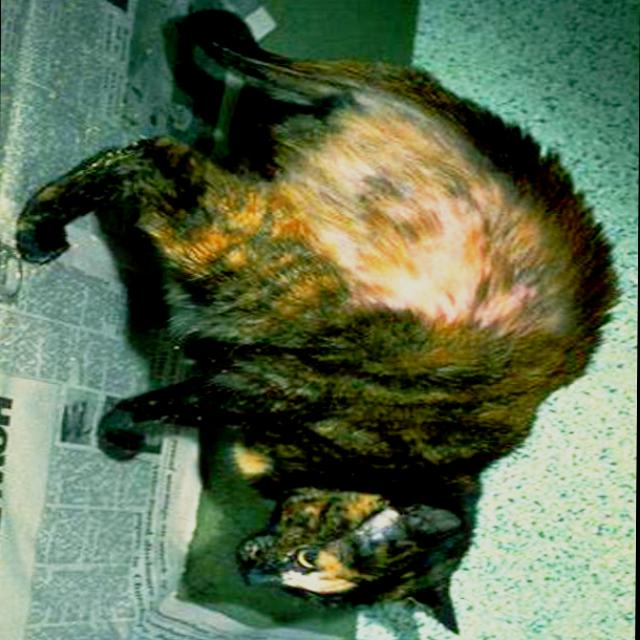hairloss: (360, 188, 485, 310)
